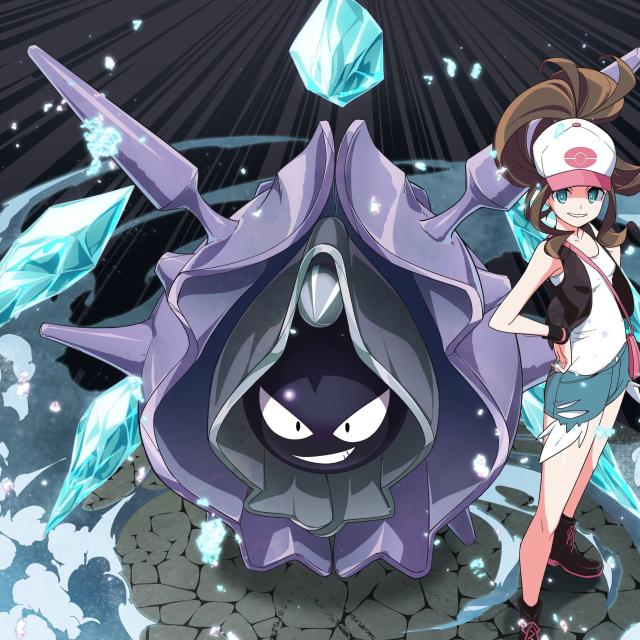Cloyster: (119, 119, 522, 569)
